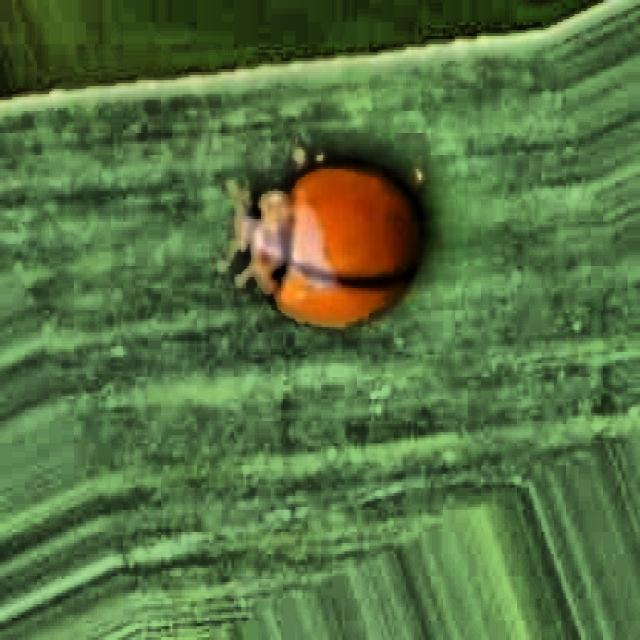Ladybug: (185, 138, 467, 342)
